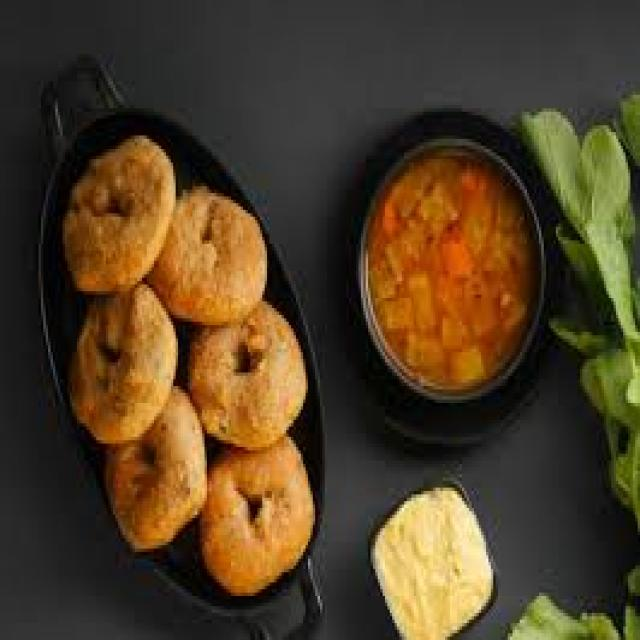MEDU VADA: (63, 278, 180, 444), (184, 298, 309, 450), (64, 136, 178, 293), (145, 188, 268, 332), (202, 439, 314, 597), (108, 396, 205, 544)
